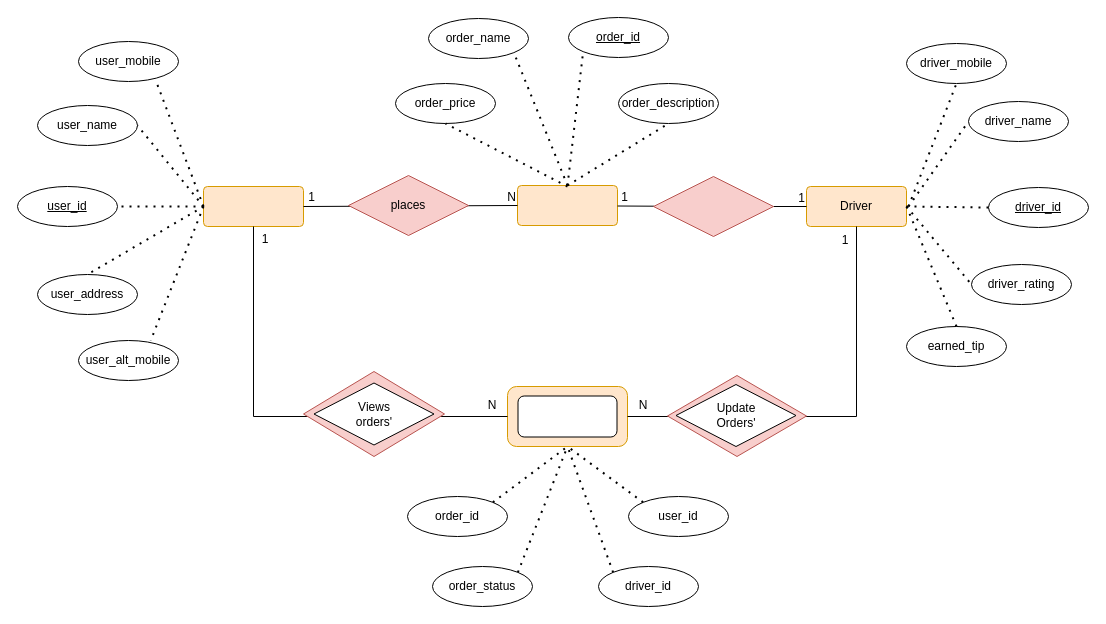
The diagram is 1106 pixels wide and 624 high, and some of its shapes have lost their labels. The shapes that lost their labels are listed below. From the top down, each one's centre as x and y in pixels, then its label:
At pixel 253 206: "User".
At pixel 567 205: "Order".
At pixel 713 206: "Assigned to".
At pixel 567 416: "Status".
